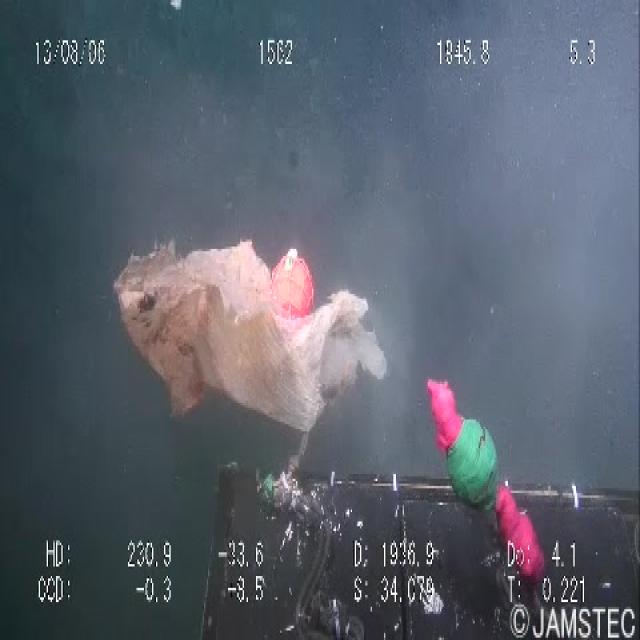plastic: (96, 208, 400, 446)
